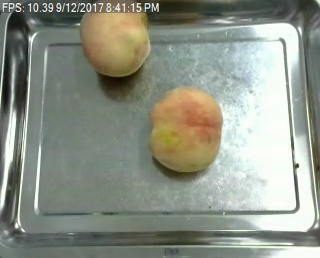Peach: (148, 86, 223, 173), (79, 0, 152, 76)
